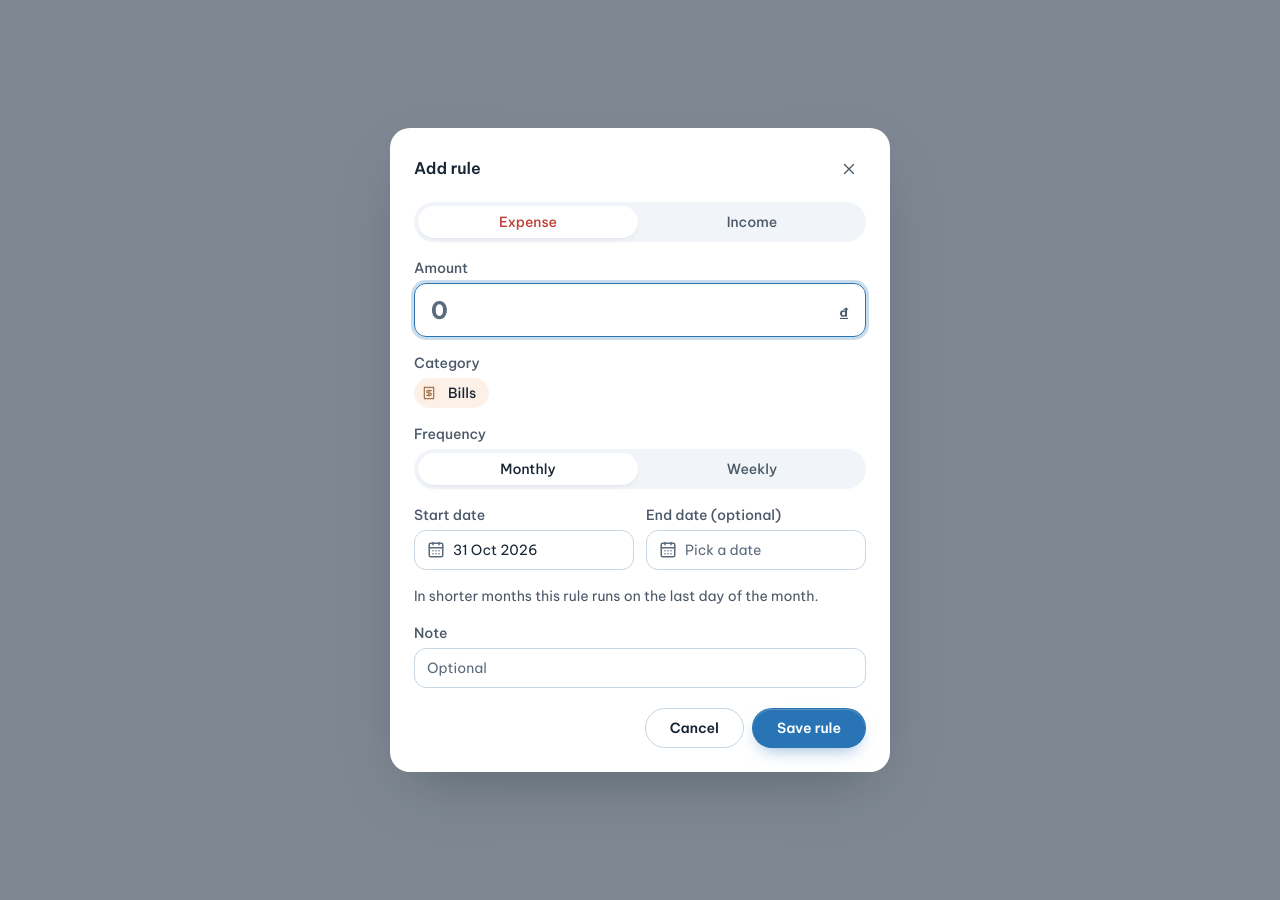
Test: RuleFormDialog › explains what happens on day 29-31, for a monthly rule only
Click the button named "Start date" at (524, 550), box [414,530,634,570]
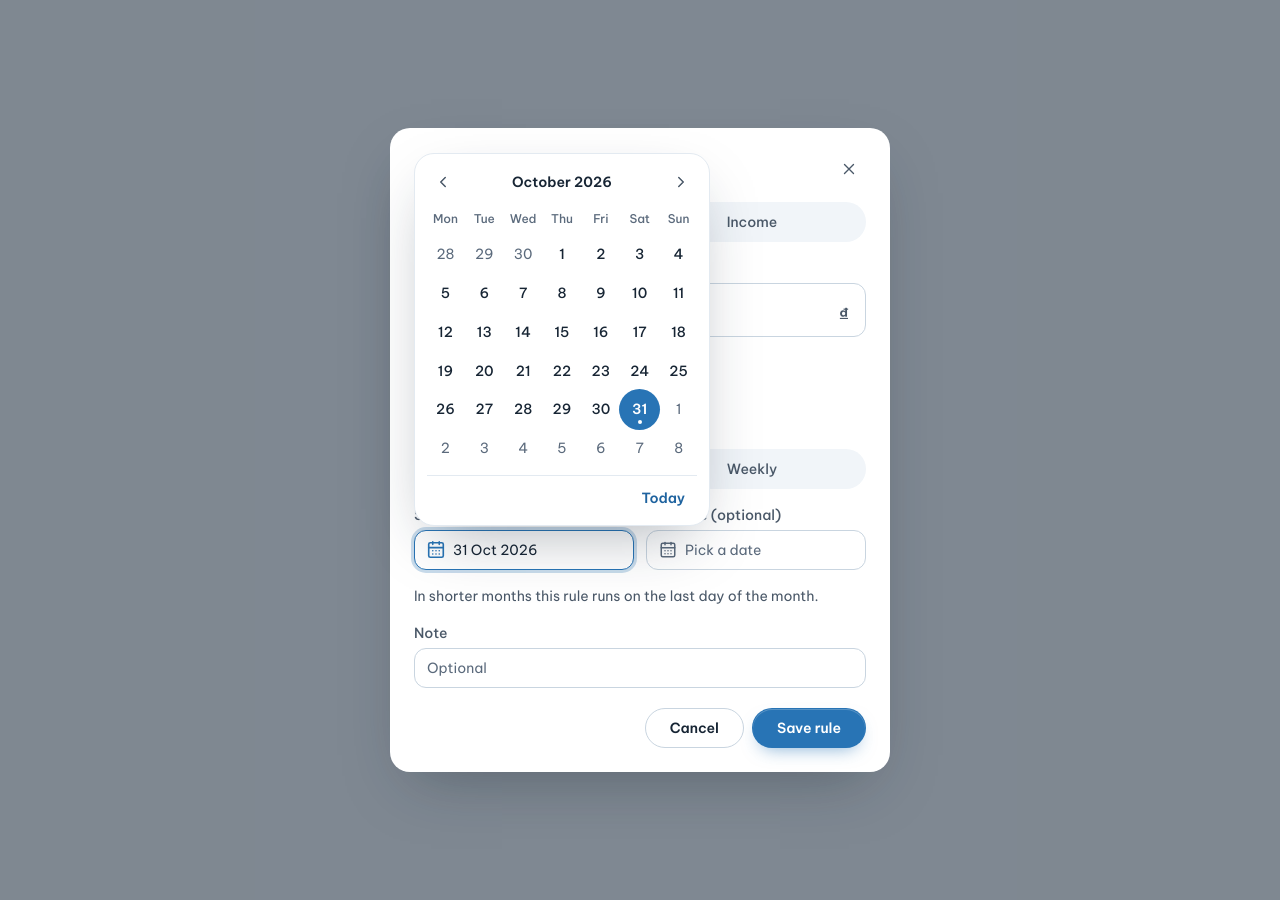
Click the 2nd button "28" at (523, 410), box [505,391,542,428]
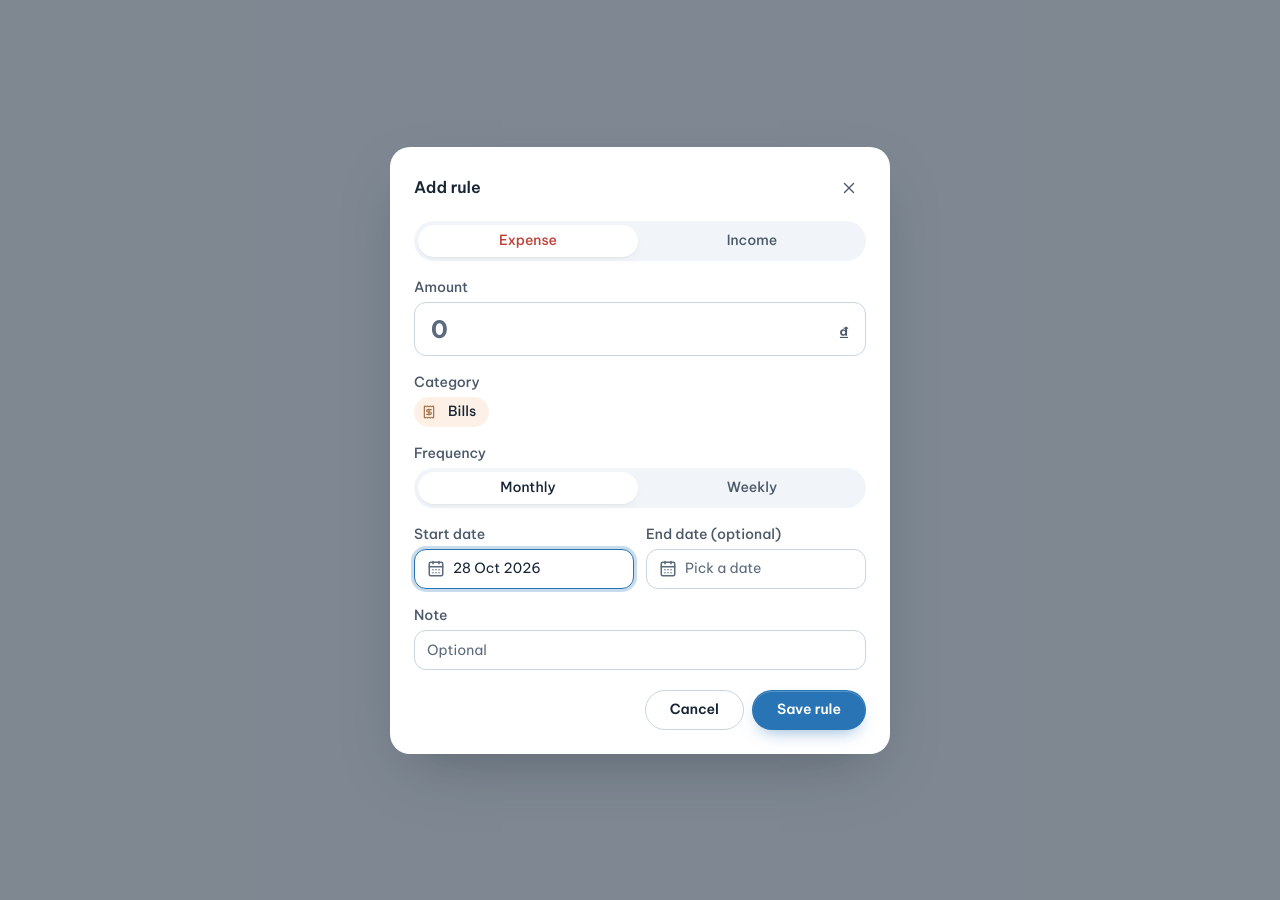
Expected: the text "In shorter months this rule runs on the last day of the month." is gone
Click the button named "Start date" at (524, 568), box [414,548,634,588]
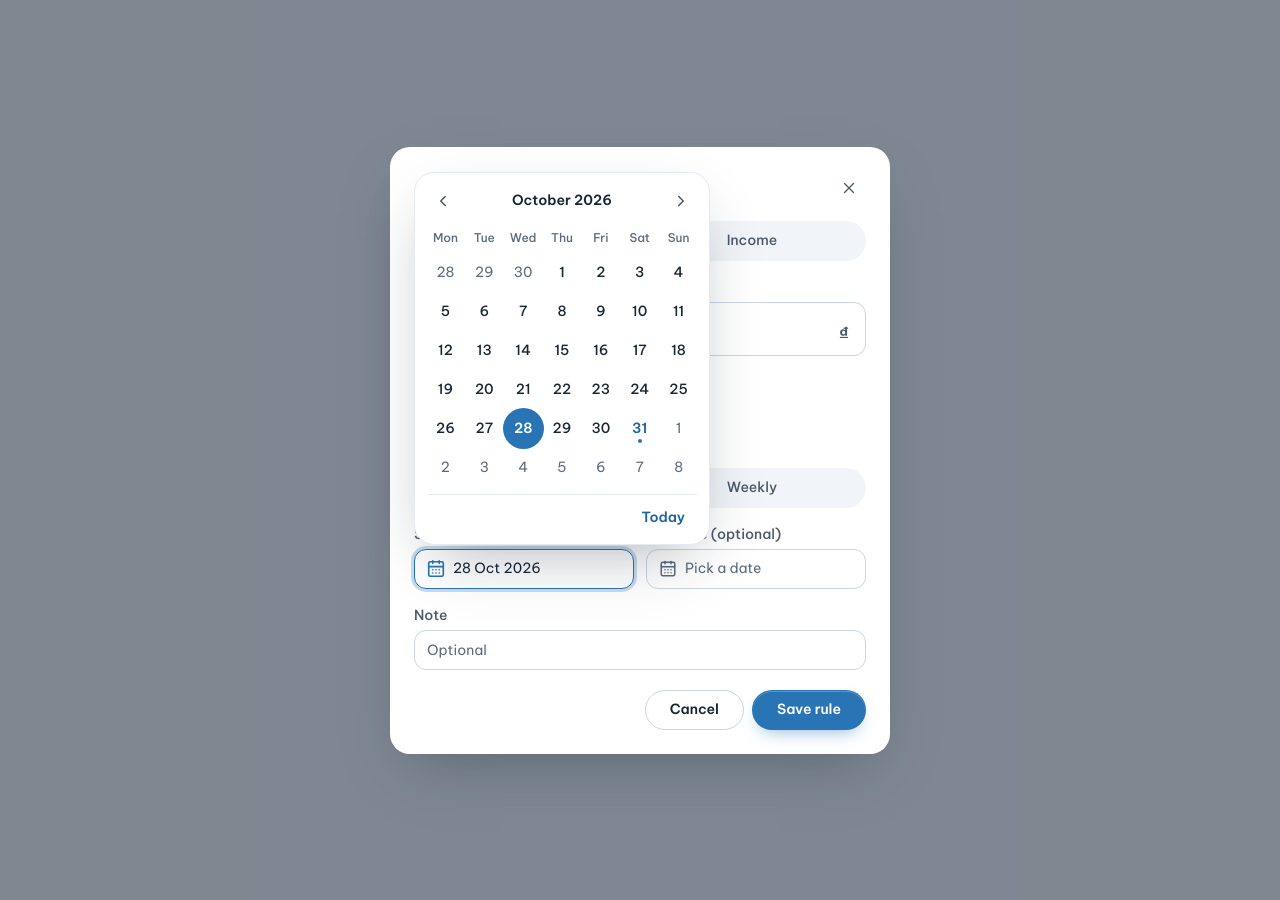
Click the button "31" at (640, 428), box [621,410,658,447]
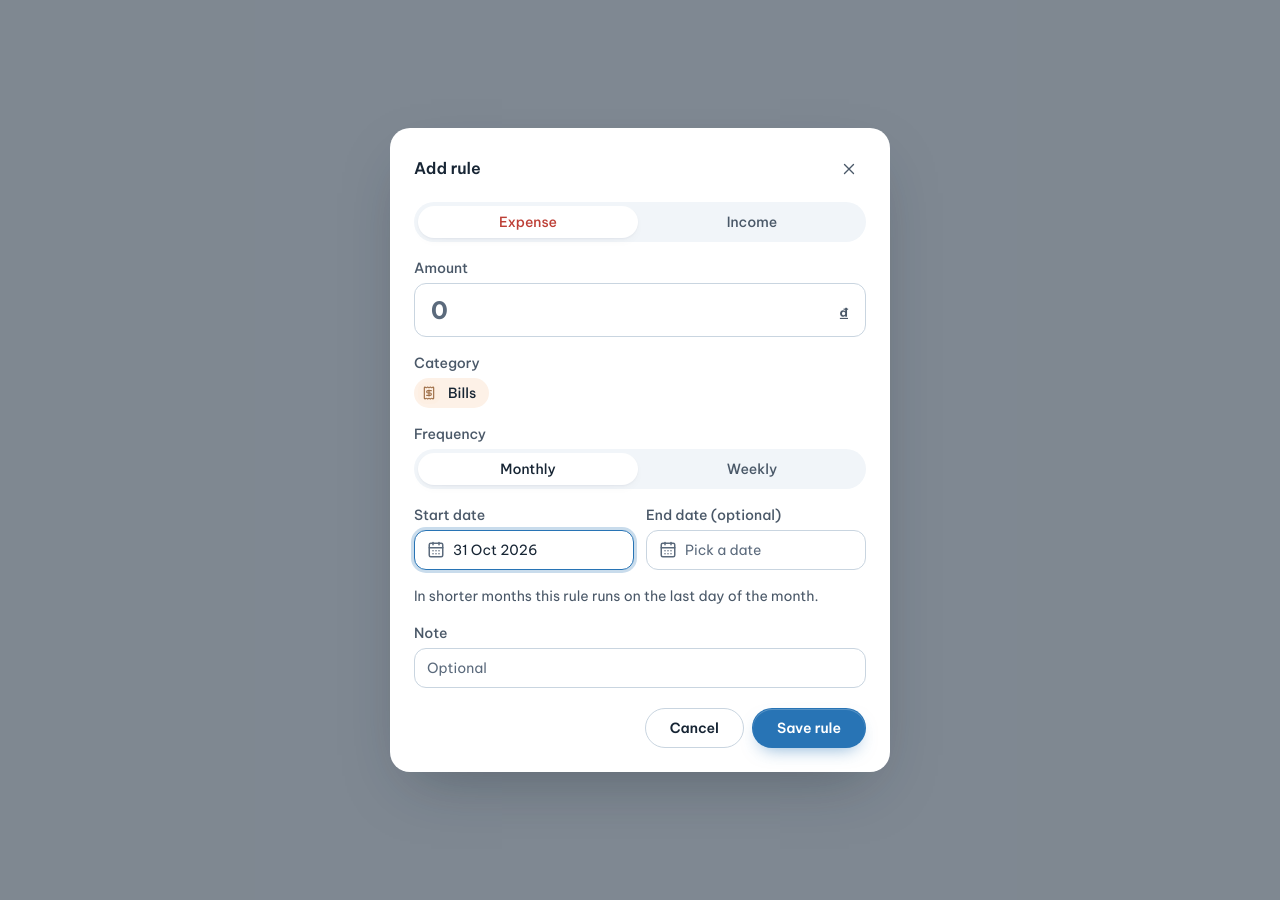
Expected: the text "In shorter months this rule runs on the last day of the month." is shown, [414,586,866,607]
Click the button "Weekly" at (752, 469), box [642,453,862,485]
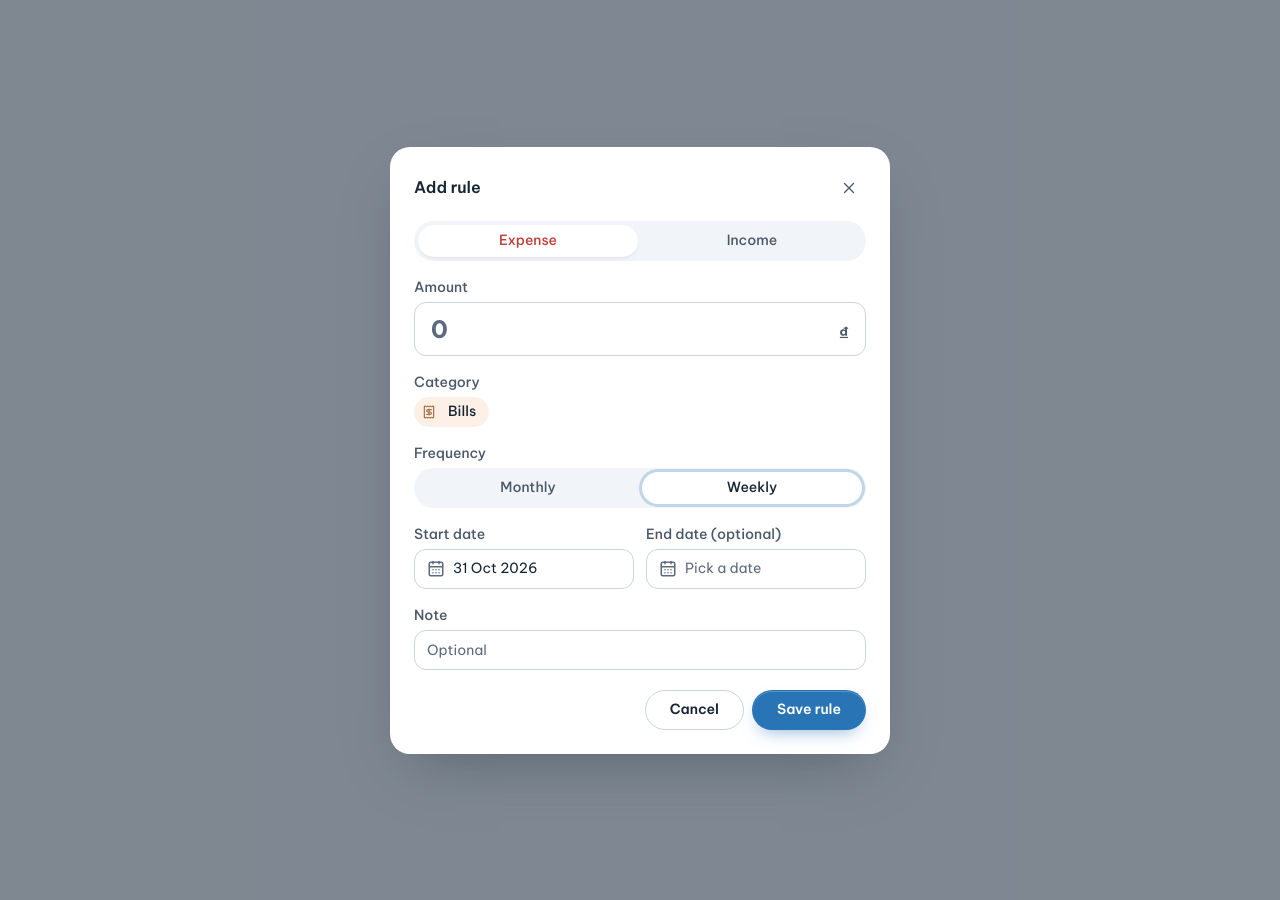
Expected: the text "In shorter months this rule runs on the last day of the month." is gone
